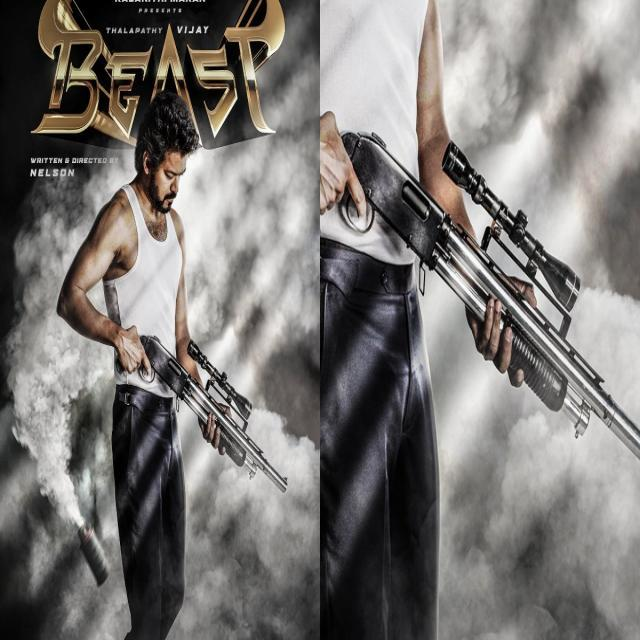rifle: (339, 126, 640, 464), (120, 328, 292, 505)
